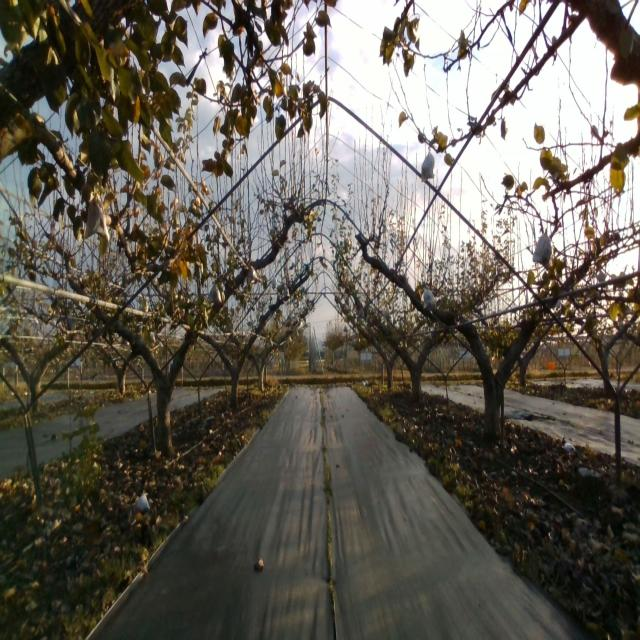pearbags: (83, 192, 109, 240), (532, 228, 552, 270), (420, 146, 434, 183), (208, 283, 222, 305), (423, 284, 435, 309), (247, 264, 257, 286)
